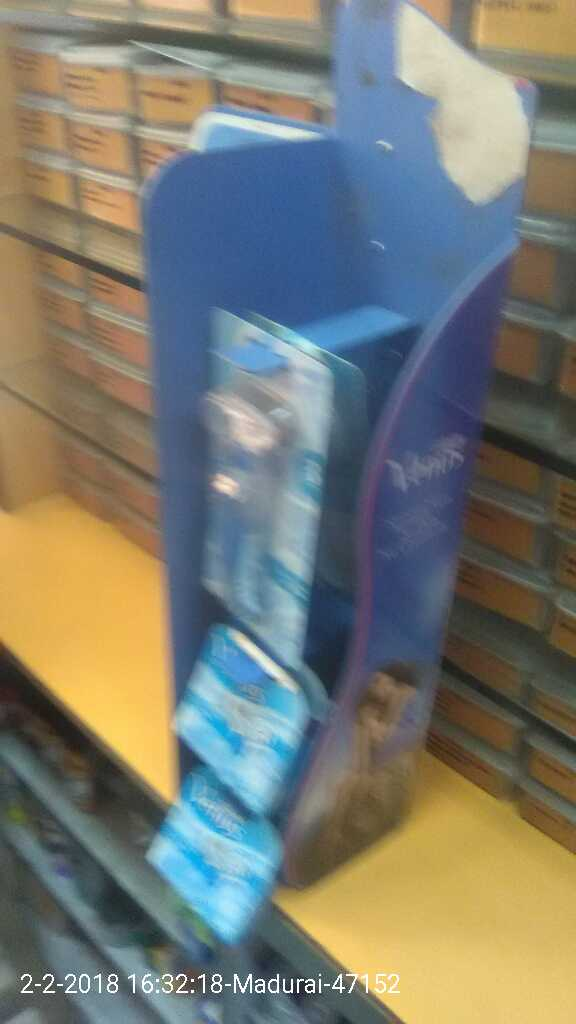reject: (382, 564, 535, 772)
